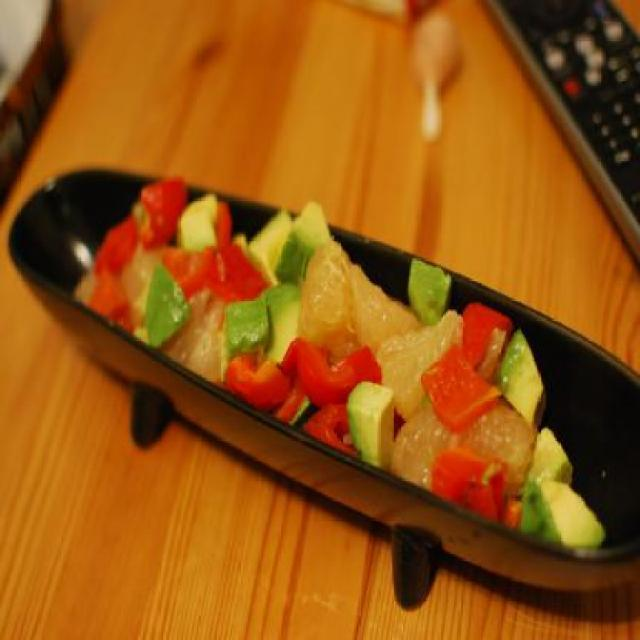Zucchini: (140, 260, 200, 352)
